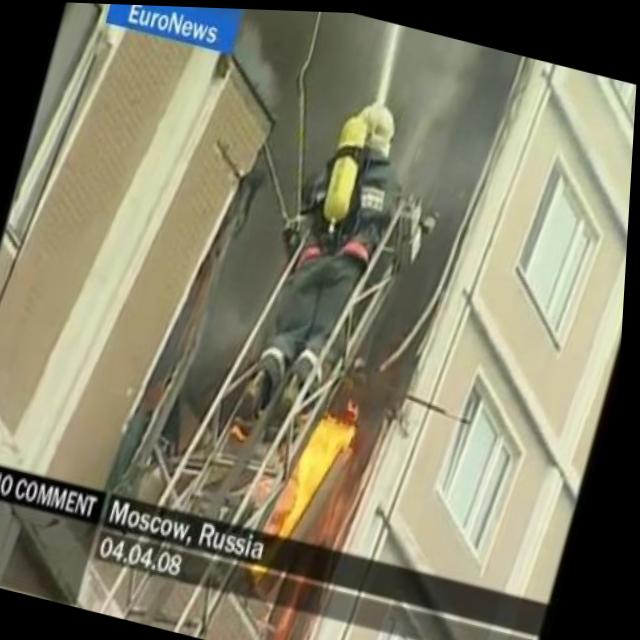fire: (268, 377, 379, 550), (230, 417, 257, 444)
